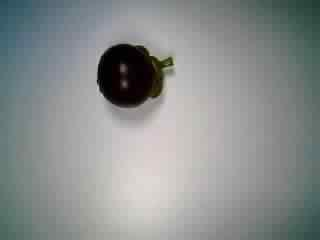mangosteen: (93, 38, 176, 109)
